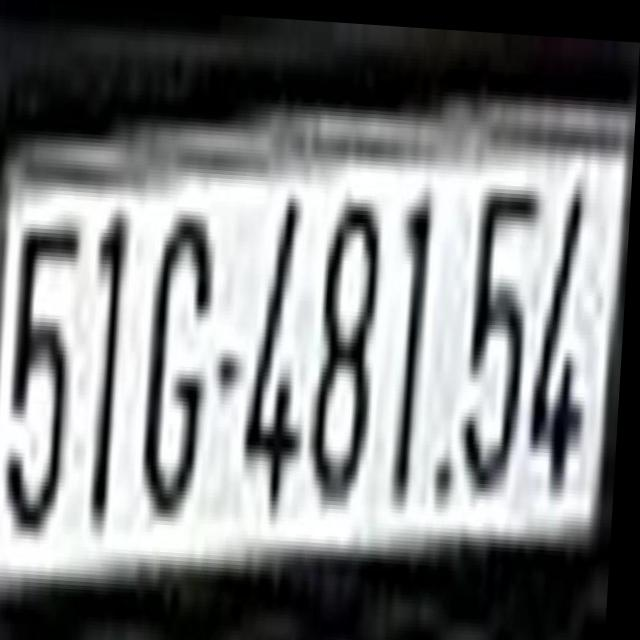1: (383, 180, 439, 524), (87, 196, 132, 531)
4: (243, 176, 321, 518), (531, 153, 603, 482)
5: (7, 203, 85, 544), (464, 161, 540, 490)
8: (312, 181, 384, 506)
G: (143, 191, 220, 520)
